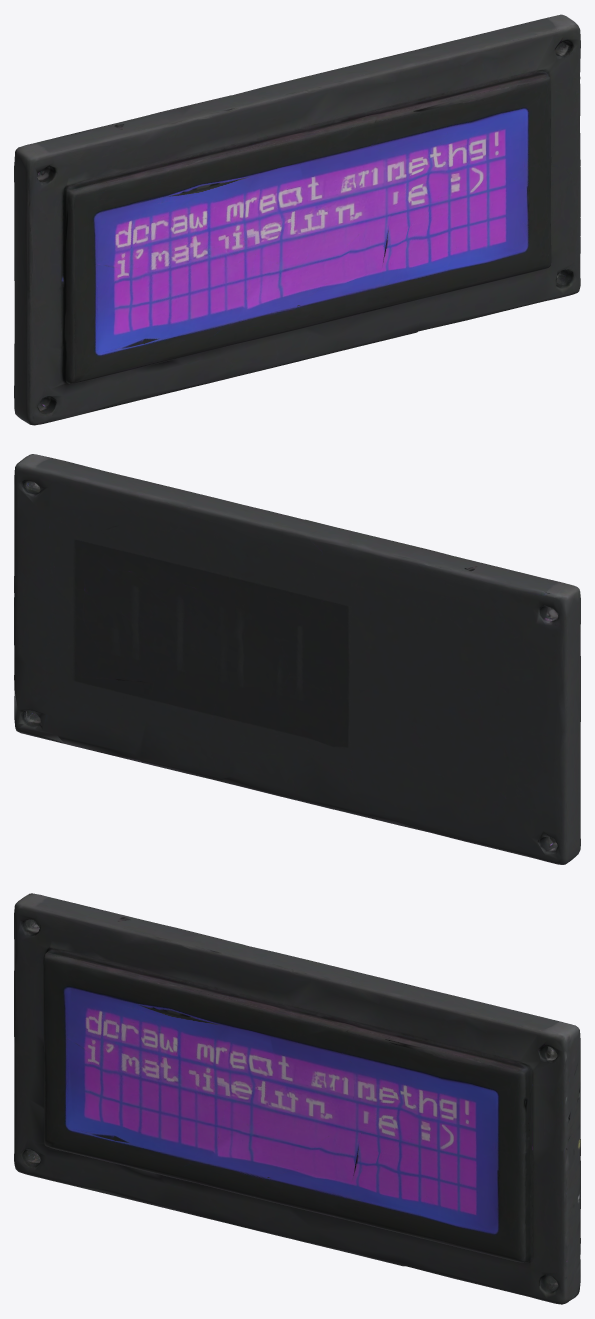
The model's file is playground.glb.
3 renders of one model, top to bottom at view 1: azimuth 30°, elevation 25°; view 2: azimuth 150°, elevation 25°; view 3: azimuth 330°, elevation 25°, orthographic.
Size of the model in its own units: 2 by 0.9342 by 0.1495.
1 material, 1 textured.
